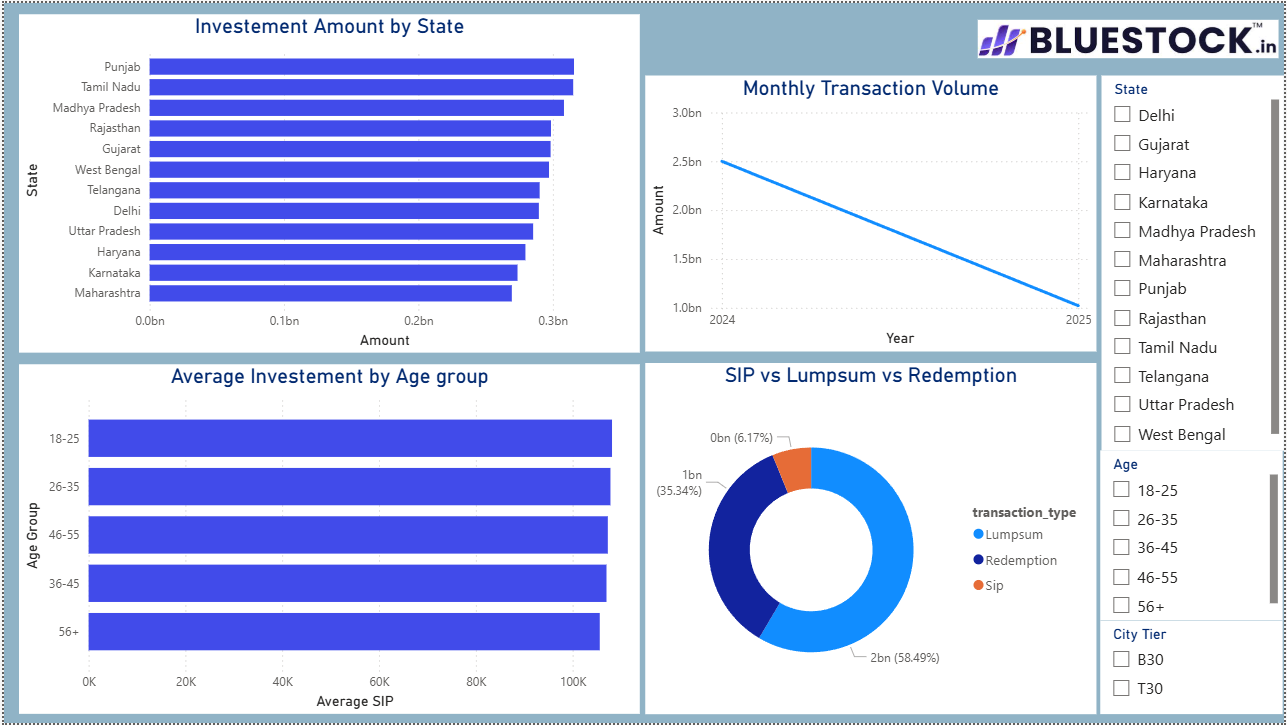

What the dashboard file says about the page in this screenshot:
{"tool":"powerbi","page":{"name":"Investor Analytics","canvas":[1280,720],"ordinal":2},"visuals":[{"type":"clusteredBarChart","title":"Investement Amount by State","fields":{"Y":["Sum(08_investor_transactions_clean.amount_inr)"],"Category":["08_investor_transactions_clean.state"]},"box":[14.7,11,621.2,338.7],"z":0},{"type":"donutChart","title":"SIP vs Lumpsum vs Redemption","fields":{"Category":["08_investor_transactions_clean.transaction_type"],"Y":["Sum(08_investor_transactions_clean.amount_inr)"]},"box":[640.8,359.5,451.2,351],"z":1000},{"type":"clusteredBarChart","title":"Average Investement by Age group","fields":{"Category":["08_investor_transactions_clean.age_group"],"Y":["Avg(08_investor_transactions_clean.amount_inr)"]},"box":[14.7,360.7,621.2,349.7],"z":2000},{"type":"lineChart","title":"Monthly Transaction Volume","fields":{"Y":["Sum(08_investor_transactions_clean.amount_inr)"],"Category":["08_investor_transactions_clean.transaction_date.Variation.Date Hierarchy.Year","08_investor_transactions_clean.transaction_date.Variation.Date Hierarchy.Quarter","08_investor_transactions_clean.transaction_date.Variation.Date Hierarchy.Month","08_investor_transactions_clean.transaction_date.Variation.Date Hierarchy.Day"]},"box":[641.2,72.5,451.2,276.2],"z":3000},{"type":"slicer","fields":{"Values":["08_investor_transactions_clean.state"]},"box":[1097.5,72.5,182.5,375],"z":4000},{"type":"slicer","fields":{"Values":["08_investor_transactions_clean.age_group"]},"box":[1096.3,448,182.3,169.7],"z":5000},{"type":"slicer","fields":{"Values":["08_investor_transactions_clean.city_tier"]},"box":[1096.2,617.5,182.5,93.8],"z":6000},{"type":"image","box":[973.9,0,300.5,72.3],"z":6001}]}

Visuals, with their boxes in screenshot pixels (x1, y1, x2, y2), scaled from the page's 1280x720 canvas onto the 1287x725 screenshot:
"Investement Amount by State" clusteredBarChart: 15 11 639 352
"SIP vs Lumpsum vs Redemption" donutChart: 644 362 1098 715
"Average Investement by Age group" clusteredBarChart: 15 363 639 715
"Monthly Transaction Volume" lineChart: 645 73 1098 351
slicer - 08_investor_transactions_clean.state: 1104 73 1286 451
slicer - 08_investor_transactions_clean.age_group: 1102 451 1286 622
slicer - 08_investor_transactions_clean.city_tier: 1102 622 1286 716
image: 979 0 1281 73
